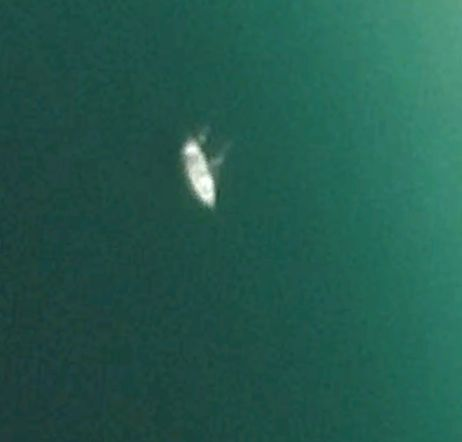boat: (177, 133, 220, 215)
